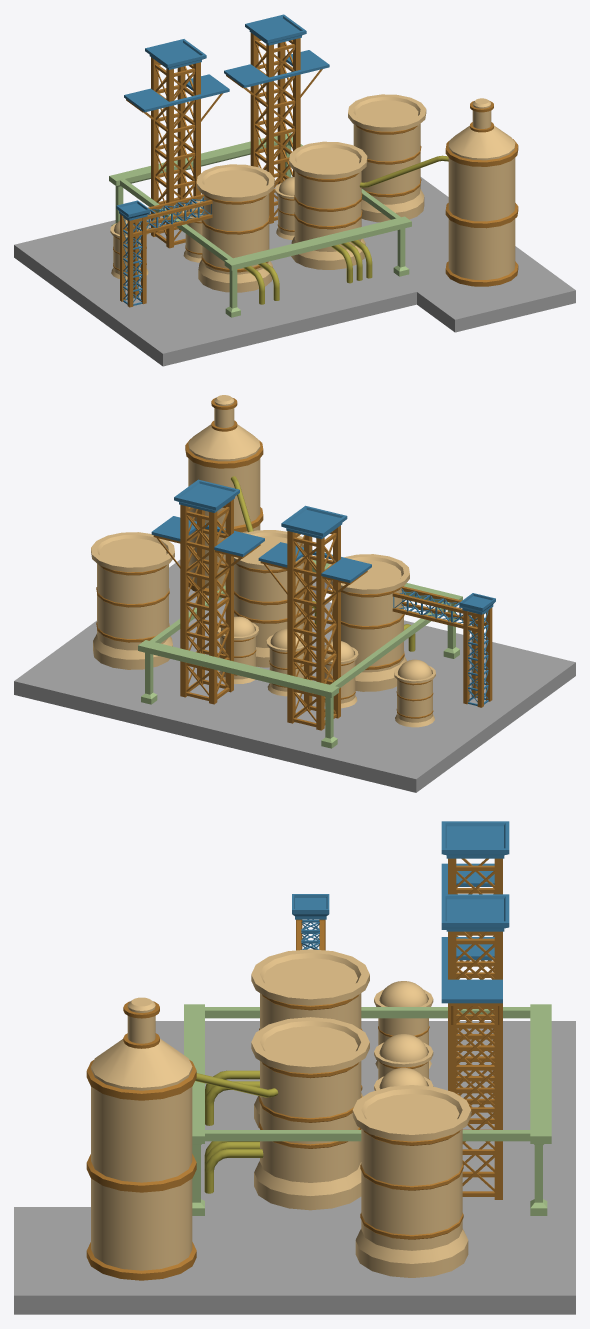
File: Refinery.fbx
The picture shows the model from 3 angles, top to bottom: view 1: azimuth 30°, elevation 25°; view 2: azimuth 150°, elevation 25°; view 3: azimuth 270°, elevation 25°; orthographic projection. The views are drawn at different scales.
Parts seen in each view (by area): view 1: mesh_refinery; view 2: mesh_refinery; view 3: mesh_refinery.
Part boxes in pixels (x1=…): mesh_refinery: x1=14, y1=14, x2=575, y2=366; mesh_refinery: x1=14, y1=395, x2=575, y2=792; mesh_refinery: x1=14, y1=821, x2=575, y2=1314.
Size of the model in its own units: 15.38 by 7.8 by 13.3.
